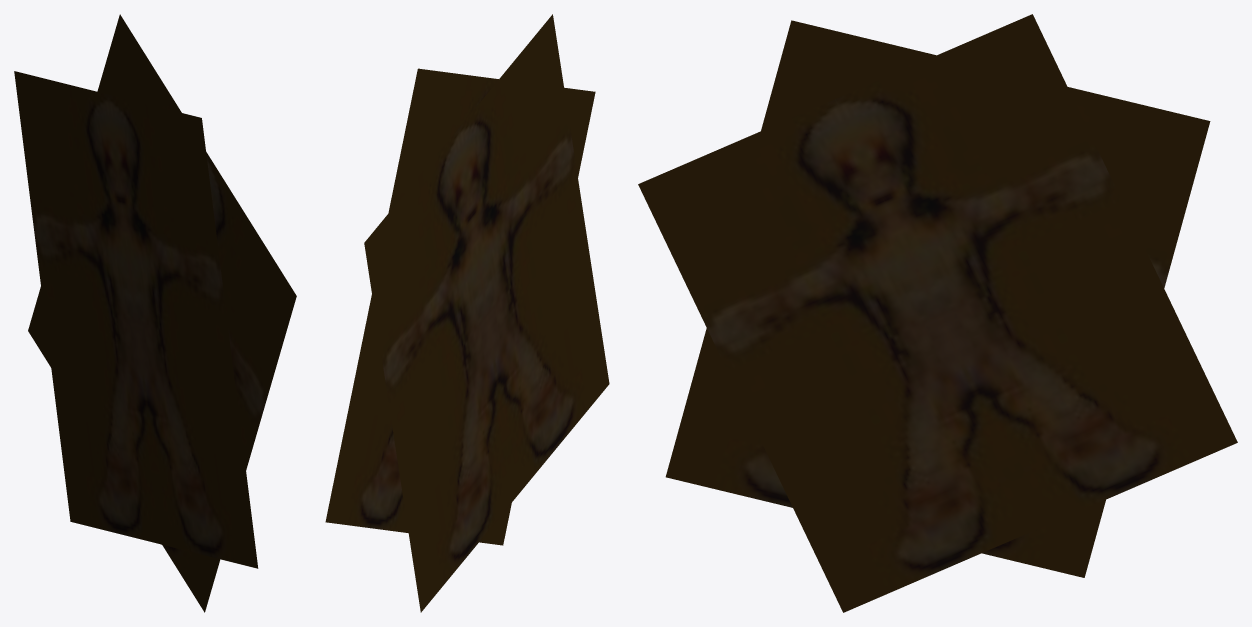
File: sign1_eng_a_icon_voodoo.fbx
3 renders of one model, left to right at view 1: azimuth 30°, elevation 25°; view 2: azimuth 150°, elevation 25°; view 3: azimuth 270°, elevation 25°, orthographic. The views are drawn at different scales.
Visible parts, largest first — view 1: icons; view 2: icons; view 3: icons.
Boxes of the visible parts, x1,y1,x2,y2 form: icons: [14, 14, 296, 612]; icons: [325, 14, 609, 612]; icons: [638, 14, 1237, 612].
Size of the model in its own units: 16.67 by 326 by 296.
1 material, 1 textured.
